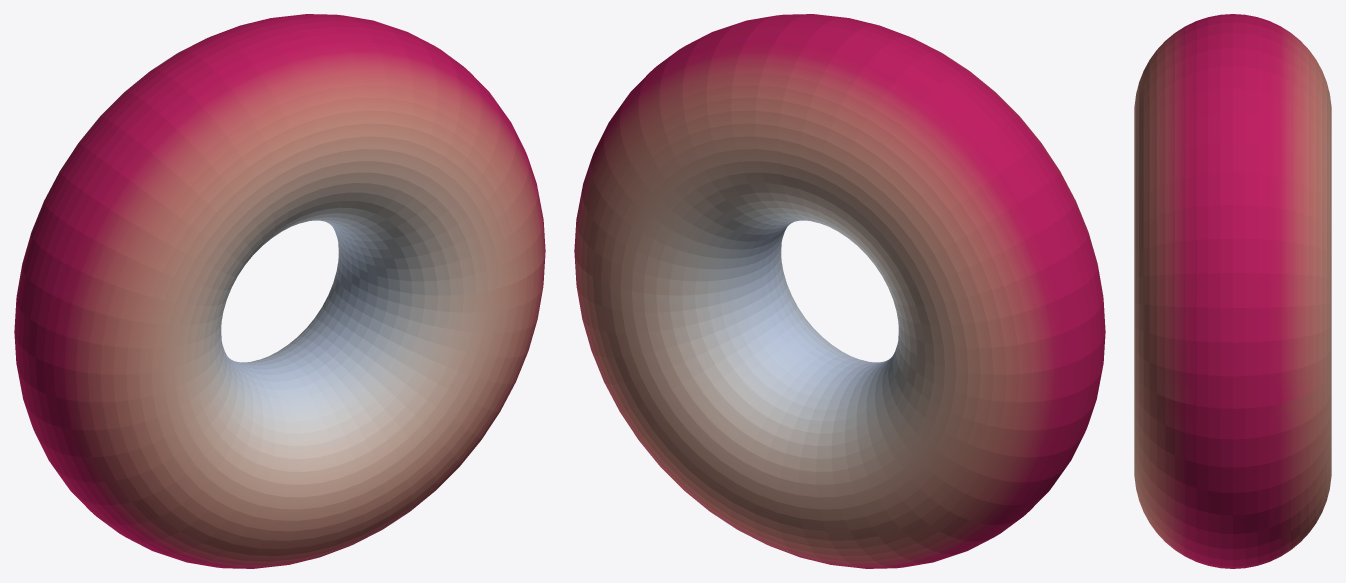
3 views of the same model, side by side, from view 1: azimuth 30°, elevation 25°; view 2: azimuth 150°, elevation 25°; view 3: azimuth 270°, elevation 25° (orthographic). The views are drawn at different scales.
Parts seen in each view (by area): view 1: world; view 2: world; view 3: world.
Boxes of the visible parts, <box> form: world: <box>14,14,545,568</box>; world: <box>574,14,1105,568</box>; world: <box>1134,14,1331,568</box>.
Bounding box in the file's own units: 25.87 × 25.82 × 9.18.
